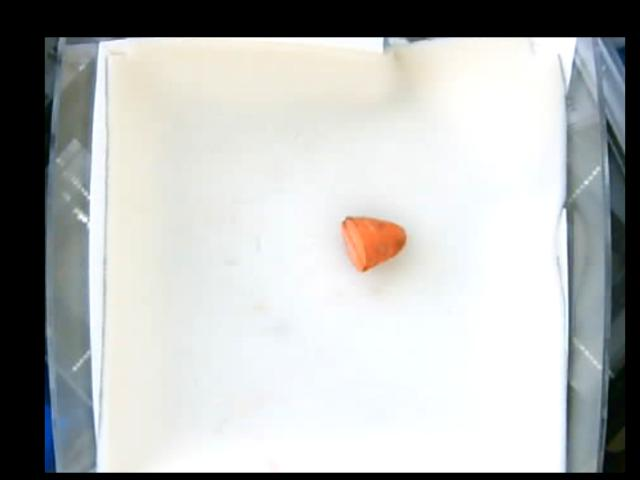Carrot: (342, 216, 408, 271)
